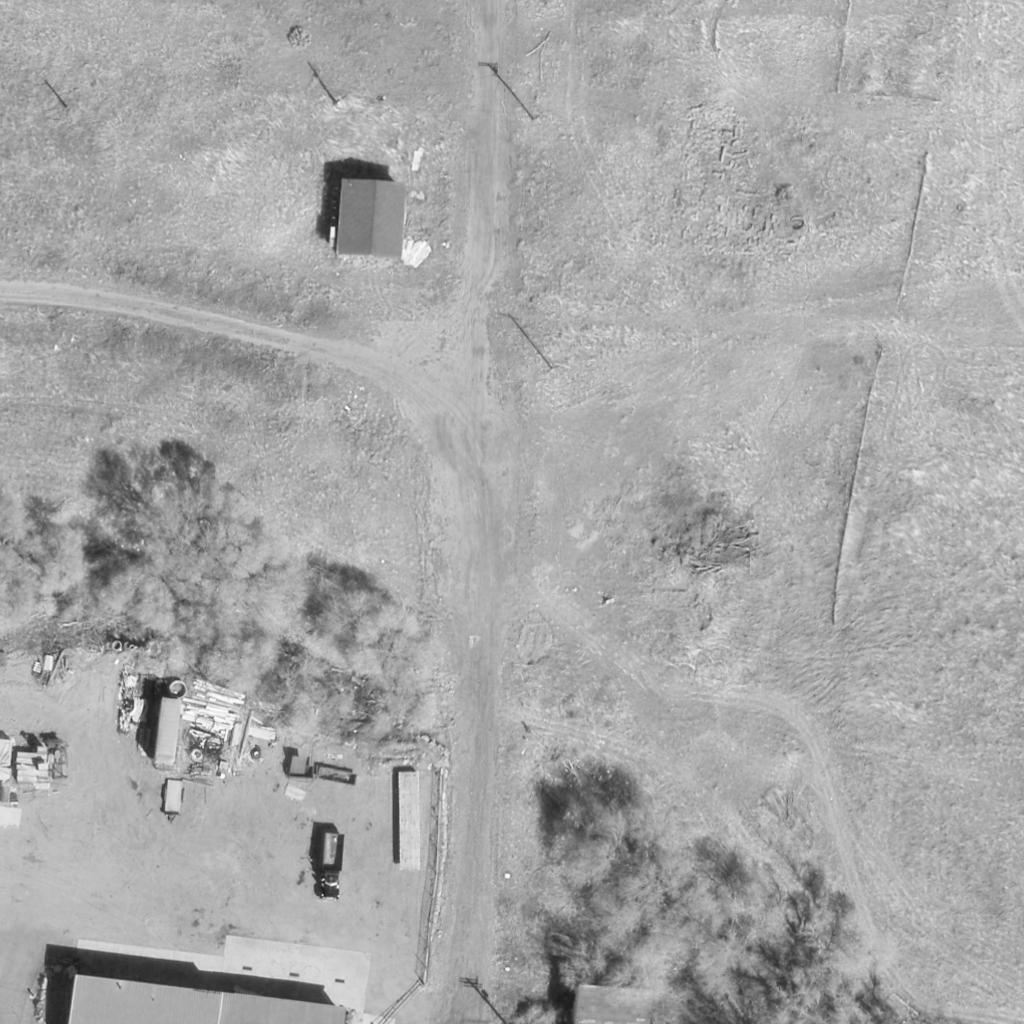vehicle: (321, 832, 345, 902)
